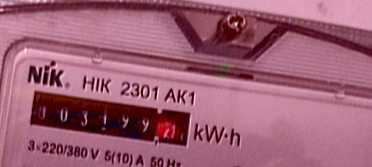0: (35, 102, 49, 121), (58, 104, 70, 123)
1: (100, 106, 110, 126)
3: (79, 109, 89, 128)
6: (161, 126, 172, 142)
9: (140, 116, 150, 134), (120, 111, 129, 129)
screen: (23, 86, 198, 154)
